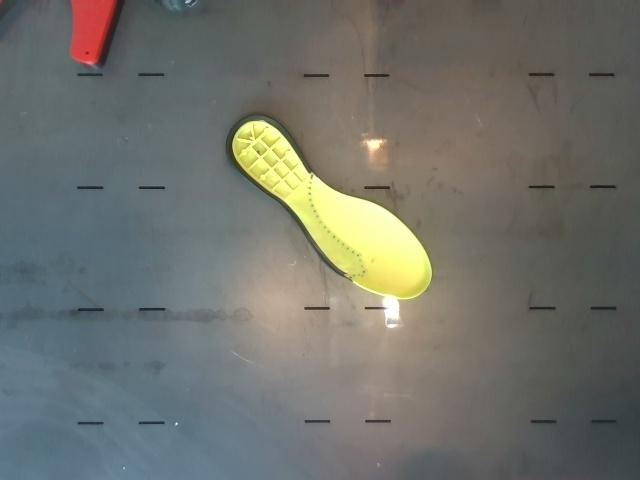shoes: (229, 115, 431, 298)
